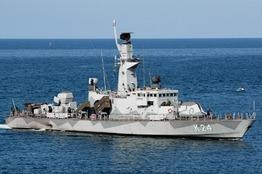warship: (4, 29, 257, 139)
